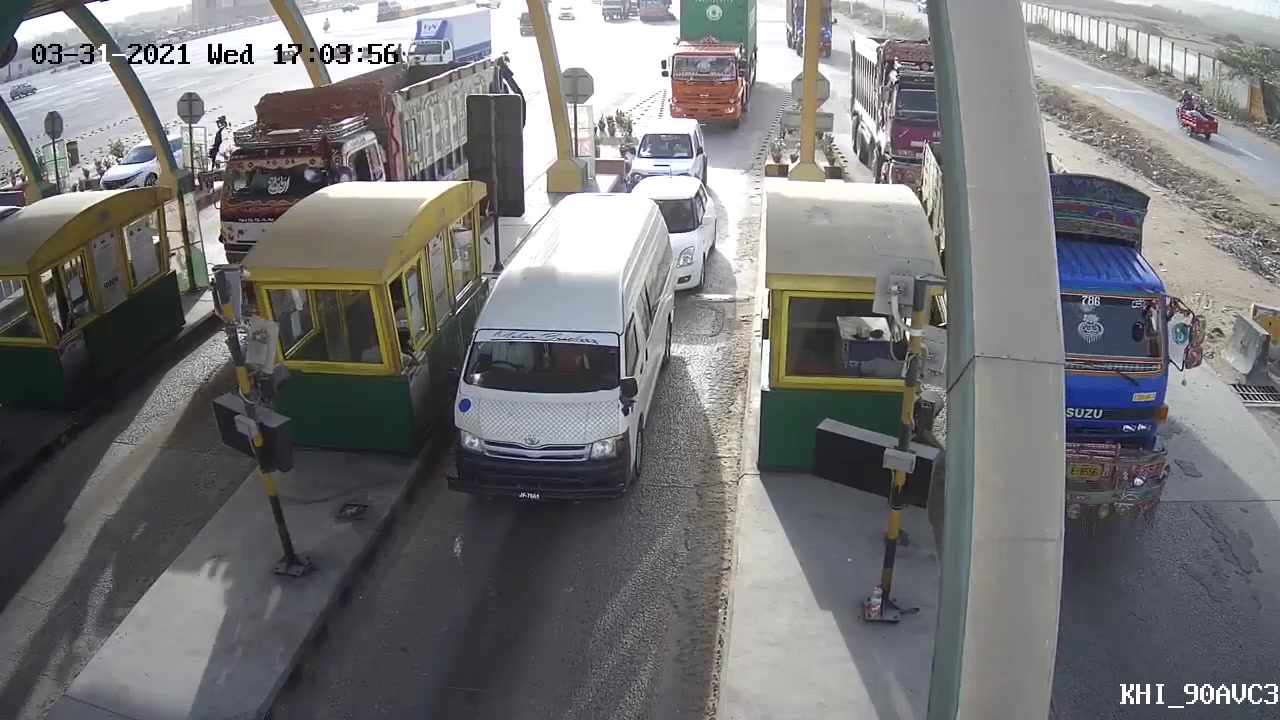F2: (447, 197, 681, 510)
